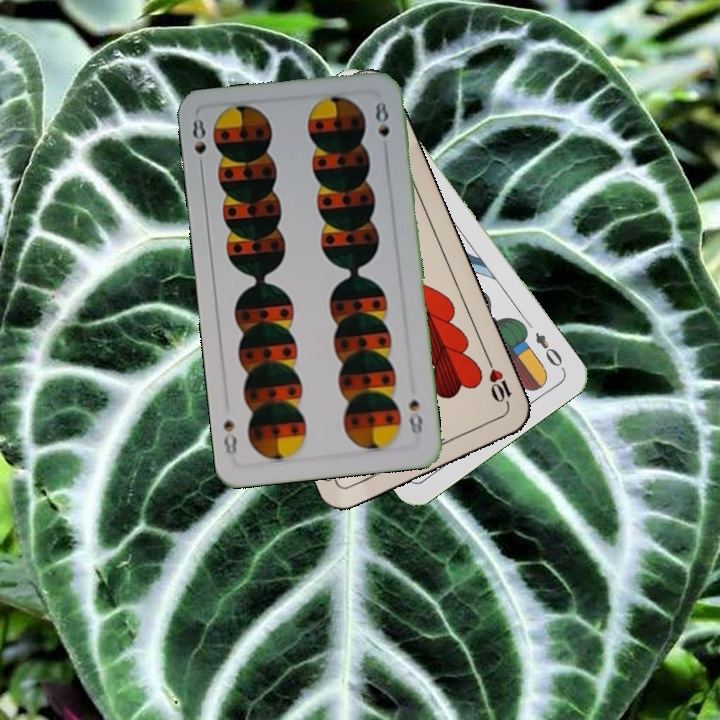EO: (531, 328, 568, 373)
H10: (483, 356, 514, 412)
S8: (188, 114, 209, 174), (405, 396, 425, 442)
